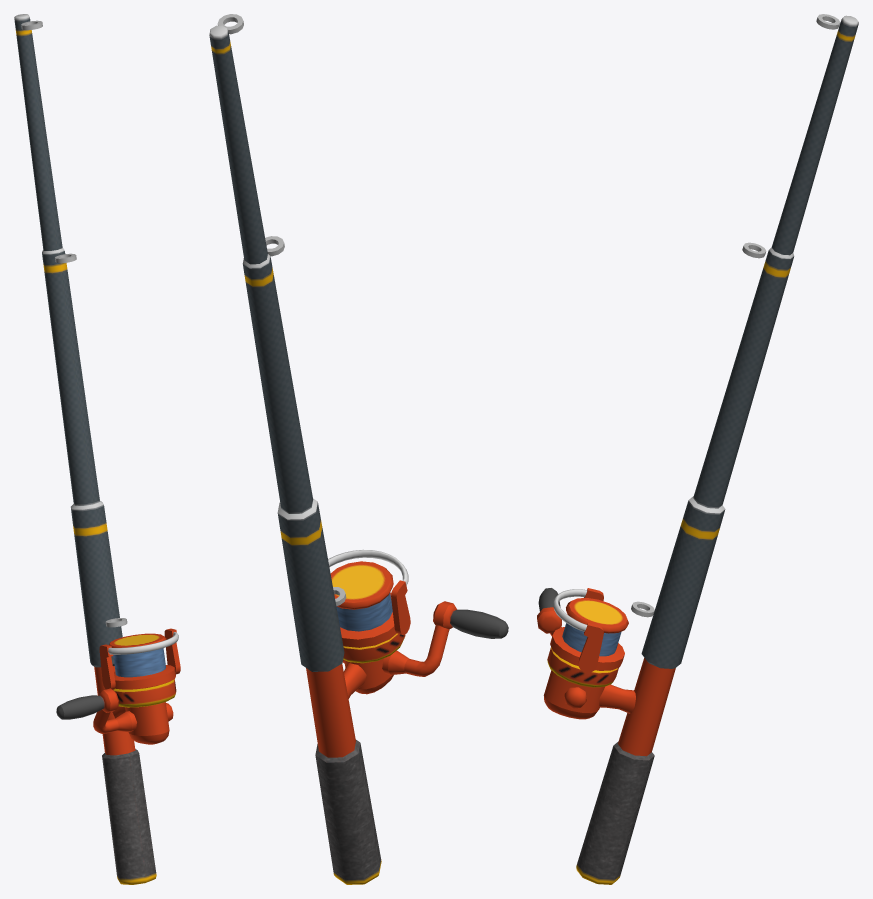
File: Agent_Handheld_FishingRod 2.fbx
The picture shows the model from 3 angles, left to right: view 1: azimuth 30°, elevation 25°; view 2: azimuth 150°, elevation 25°; view 3: azimuth 270°, elevation 25°; orthographic projection. The views are drawn at different scales.
Visible parts, largest first — view 1: FishingRod_LV3; view 2: FishingRod_LV3; view 3: FishingRod_LV3.
Boxes of the visible parts, x1,y1,x2,y2 form: FishingRod_LV3: (14,14,180,884); FishingRod_LV3: (209,14,508,884); FishingRod_LV3: (537,14,858,884).
Size of the model in its own units: 0.2955 by 1.63 by 0.551.
